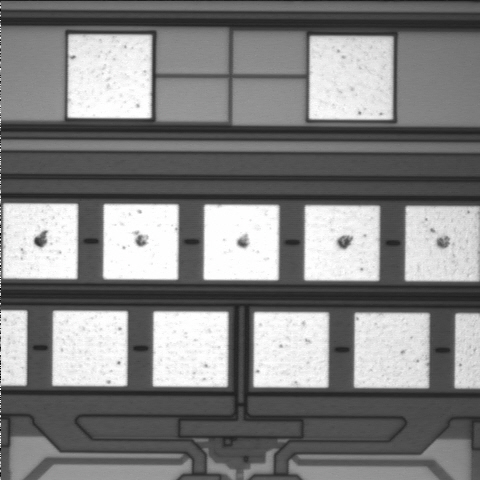pad: (309, 36, 393, 120), (68, 35, 152, 118), (103, 204, 179, 280), (203, 204, 279, 280), (304, 205, 380, 281), (253, 312, 329, 388), (3, 203, 78, 279), (52, 311, 128, 386), (153, 311, 228, 387), (354, 313, 429, 388)
